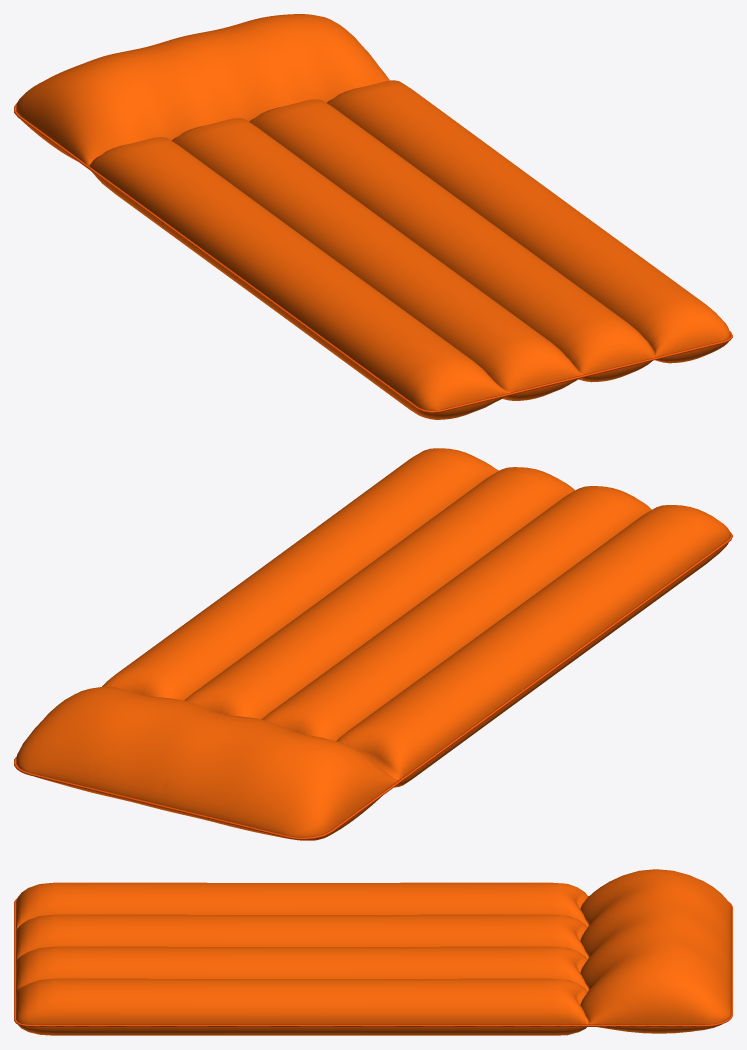
The model's file is orange_pool_float.glb.
3 renders of one model, top to bottom at view 1: azimuth 30°, elevation 25°; view 2: azimuth 150°, elevation 25°; view 3: azimuth 270°, elevation 25°, orthographic. The views are drawn at different scales.
Visible parts, largest first — view 1: 01 | Four chambers and integrated pillow, 02 | Thin welded perimeter flange; view 2: 01 | Four chambers and integrated pillow, 02 | Thin welded perimeter flange; view 3: 01 | Four chambers and integrated pillow, 02 | Thin welded perimeter flange.
Part boxes in pixels (x1,y1,x2,y2): 01 | Four chambers and integrated pillow: (16,14,730,419); 02 | Thin welded perimeter flange: (14,103,732,413); 01 | Four chambers and integrated pillow: (16,448,730,840); 02 | Thin welded perimeter flange: (14,532,732,839); 01 | Four chambers and integrated pillow: (16,869,730,1035); 02 | Thin welded perimeter flange: (14,896,732,1026).
Bounding box in the file's own units: 0.79 × 0.1964 × 1.85.
